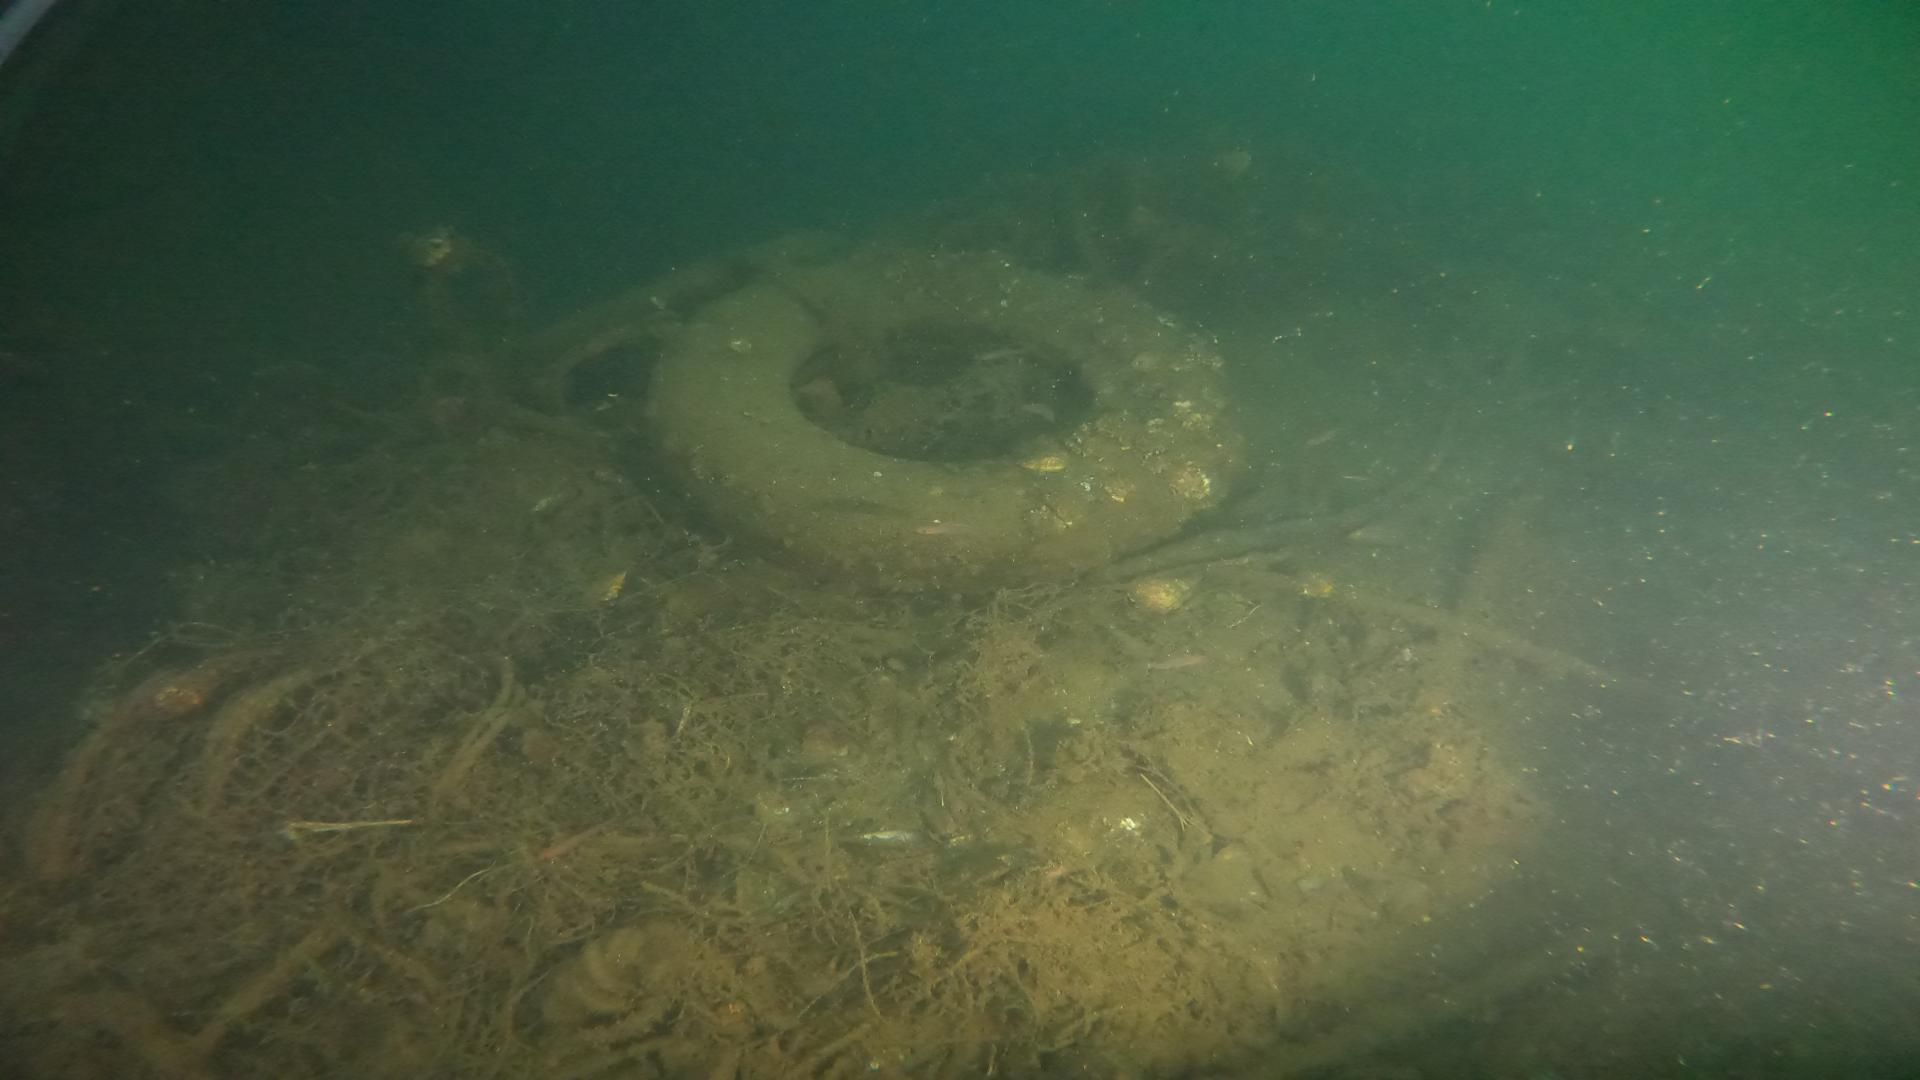tire: (645, 247, 1247, 603)
